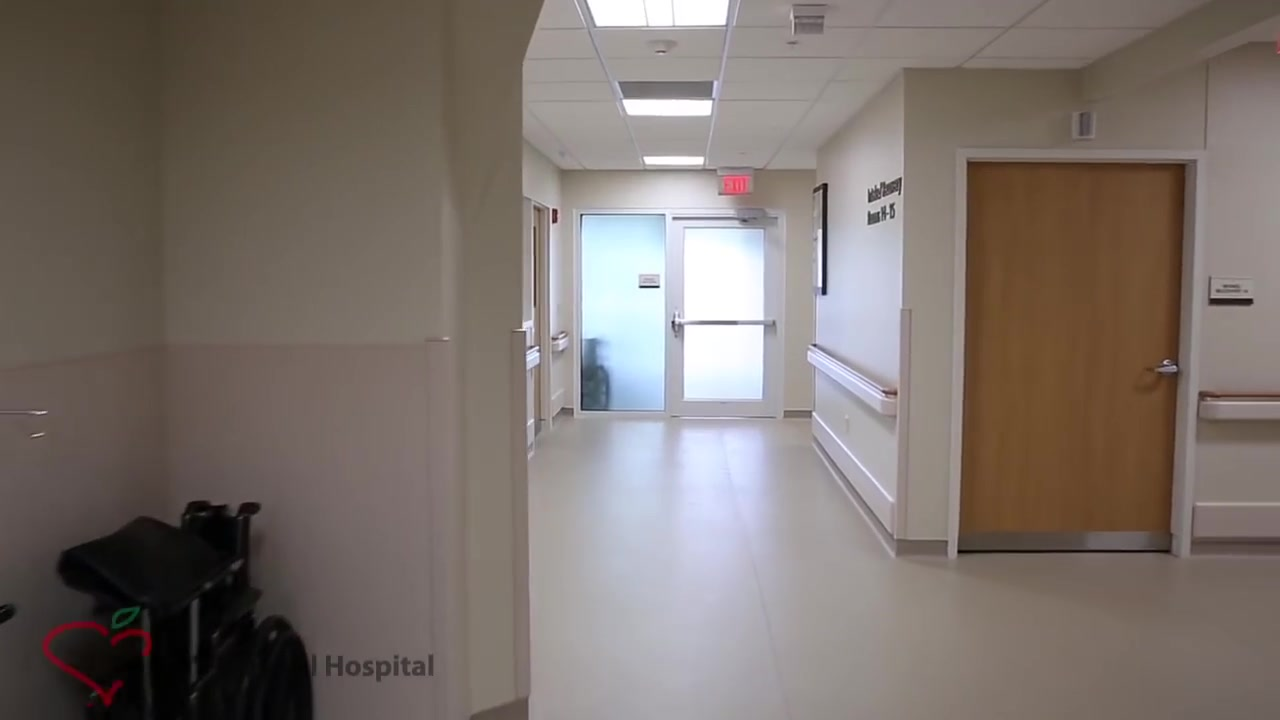door_handle: (1145, 362, 1178, 376)
hallway_assist_bar: (807, 342, 898, 420), (1197, 392, 1280, 422)
push_latch: (670, 309, 776, 336)
